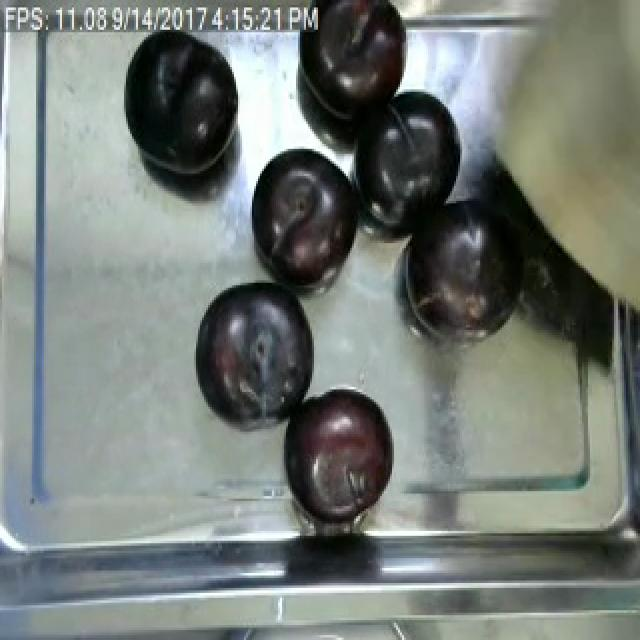Fruit: (394, 173, 562, 350), (116, 20, 248, 186), (350, 74, 476, 240), (244, 139, 366, 300), (190, 275, 316, 429), (278, 382, 396, 523), (310, 0, 414, 122)
